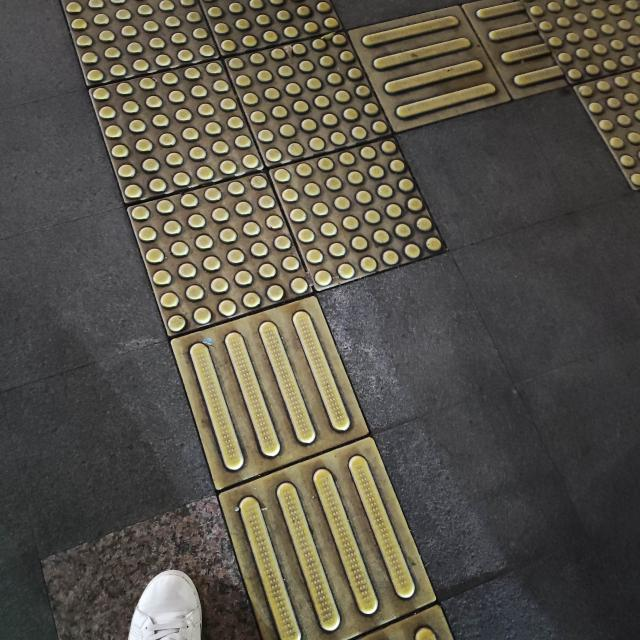kanan: (70, 5, 633, 401)
